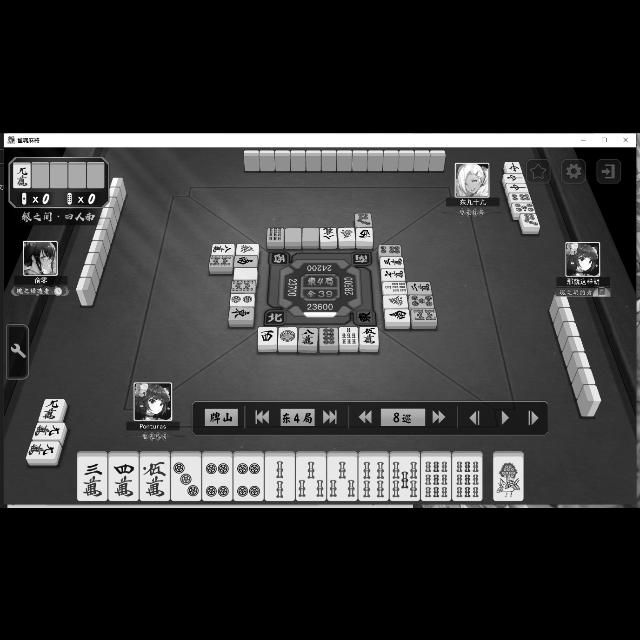1p: (278, 326, 298, 344)
1s: (494, 456, 524, 502)
2m: (408, 281, 430, 293)
2p: (230, 293, 254, 305)
2s: (266, 457, 296, 501)
3m: (78, 457, 106, 501), (380, 256, 404, 268), (382, 269, 404, 281)
3p: (172, 456, 200, 500)
3s: (297, 456, 327, 500), (328, 456, 358, 500)
4m: (109, 456, 137, 499)
4p: (203, 456, 233, 499), (234, 458, 264, 500)
4s: (358, 456, 389, 502)
5m: (140, 456, 170, 502), (360, 326, 378, 344)
5p: (410, 294, 432, 306), (512, 201, 534, 213)
5s: (389, 456, 419, 500)
6p: (378, 244, 400, 256), (510, 192, 532, 202)
7p: (354, 212, 372, 226), (520, 214, 540, 226)
7s: (338, 326, 358, 344), (383, 281, 407, 293)
8m: (298, 326, 318, 344), (319, 226, 337, 242), (212, 243, 234, 254)
8p: (320, 328, 338, 344)
8s: (230, 278, 256, 292), (412, 306, 438, 320), (208, 254, 232, 266)
9m: (26, 440, 58, 458), (34, 422, 64, 440), (40, 397, 64, 419), (13, 162, 31, 188)
9s: (422, 456, 452, 500), (452, 456, 482, 499), (267, 225, 283, 241)
chun: (506, 182, 530, 192), (505, 162, 523, 172), (503, 174, 525, 182)
haku: (232, 267, 256, 279)
hatsu: (384, 294, 408, 306), (236, 242, 258, 254), (339, 227, 355, 241)
nan: (384, 309, 410, 321), (235, 254, 258, 266)
pe: (284, 227, 302, 243), (302, 226, 318, 242)
sha: (258, 326, 276, 344), (356, 227, 372, 240)
tou: (228, 306, 254, 320)
